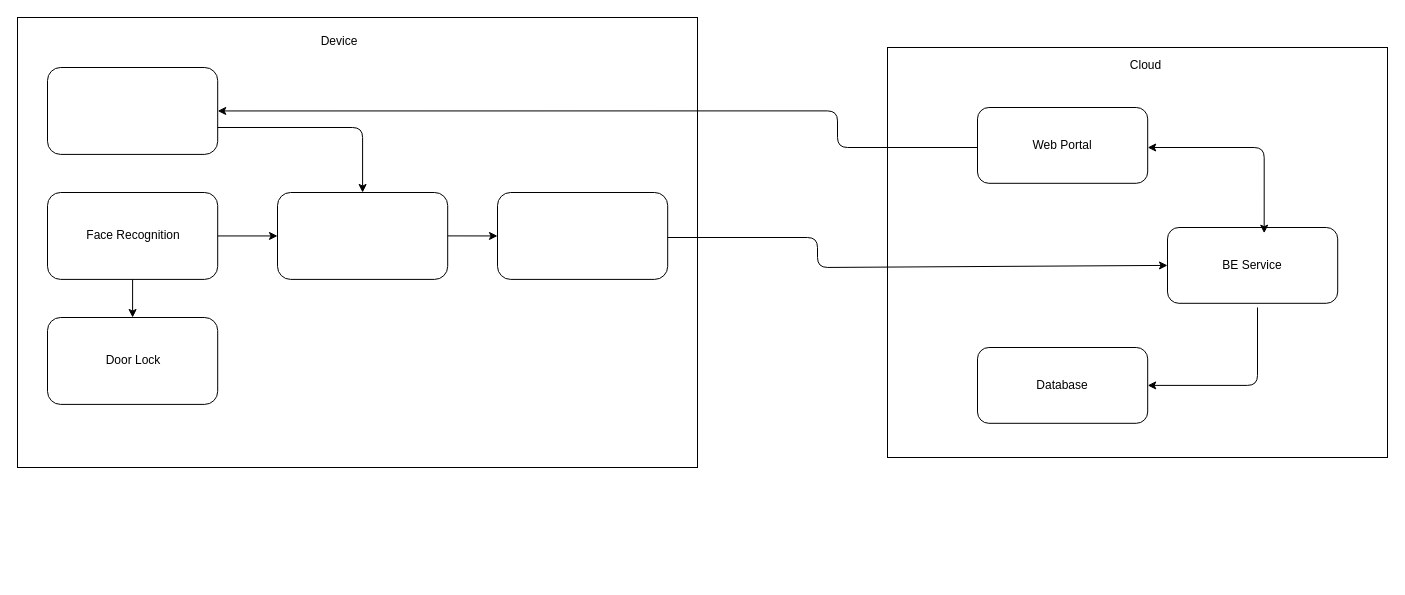
The diagram is 1405 pixels wide and 595 high, and some of its shapes have lost their labels. The centre of each missing label's shape, as x and y in pixels:
"Face Registration" belongs at [132,110].
"Local database" belongs at [582,235].
"Vector Database" belongs at [362,235].
